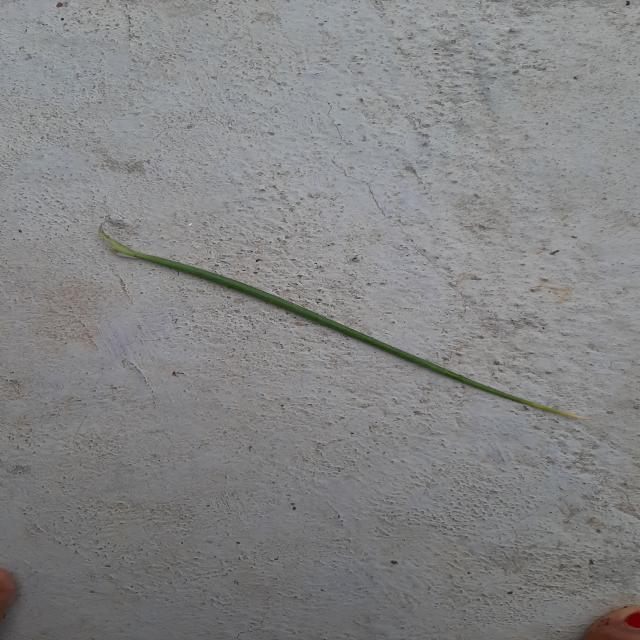onion: (98, 226, 591, 420)
